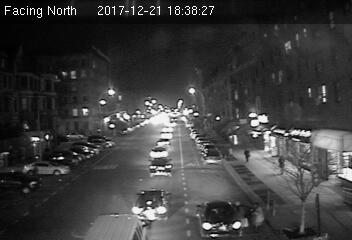car: (196, 200, 244, 237), (132, 188, 170, 222), (147, 155, 174, 178), (200, 147, 223, 166), (148, 146, 168, 158)
